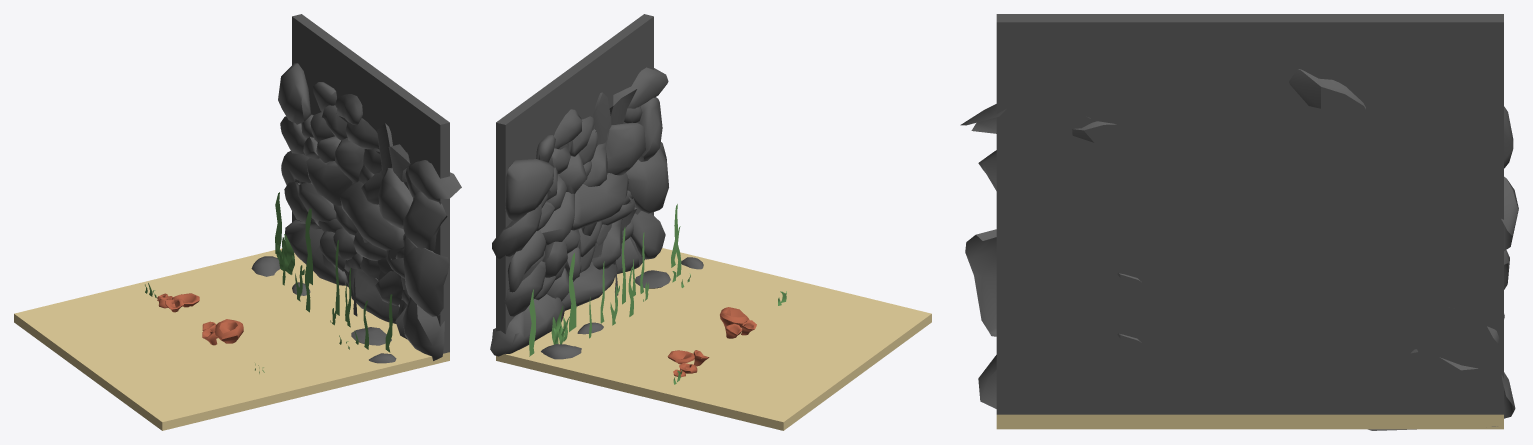
Rendered from SM_Tile_01.fbx.
3 renders of one model, left to right at view 1: azimuth 30°, elevation 25°; view 2: azimuth 150°, elevation 25°; view 3: azimuth 270°, elevation 25°, orthographic. The views are drawn at different scales.
Parts seen in each view (by area): view 1: SM_Tile_01; view 2: SM_Tile_01; view 3: SM_Tile_01.
Part boxes in pixels (x1,y1,x2,y2): SM_Tile_01: [14, 14, 461, 430]; SM_Tile_01: [490, 14, 931, 430]; SM_Tile_01: [960, 14, 1518, 430].
Bounding box in the file's own units: 3264 × 2622 × 3161.
